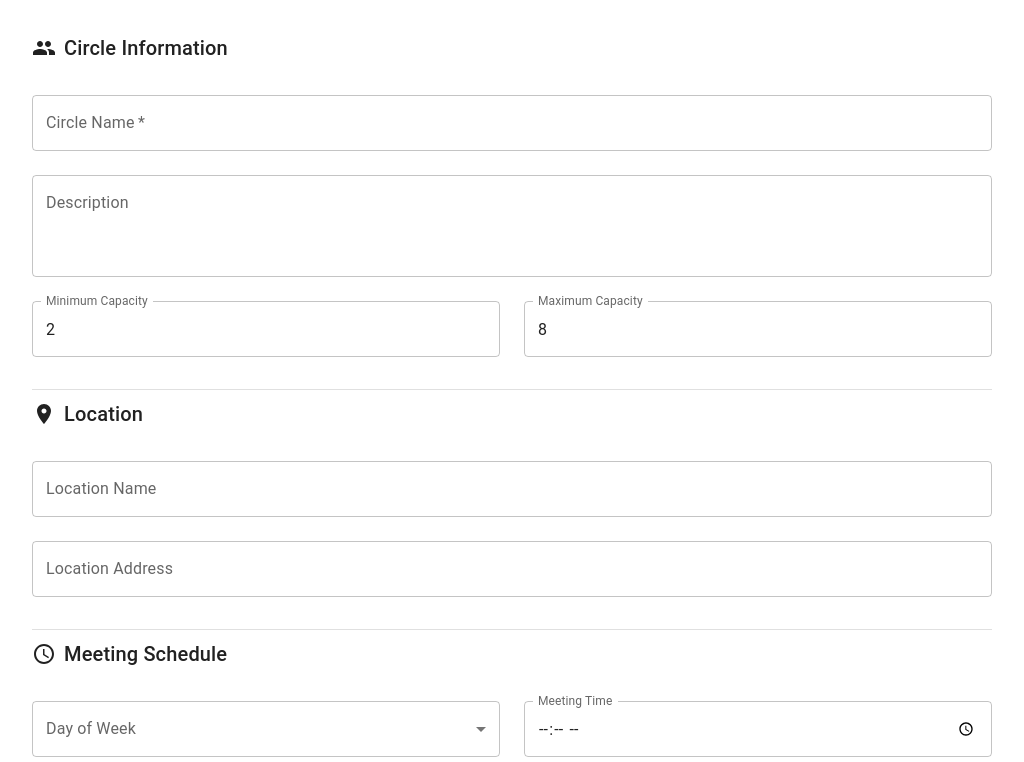
Scenario: CircleForm › Create Mode › should validate capacity constraints
The width and height of the screenshot is (1024, 762).
Step 1. Type "Test Circle" into the field labelled "Circle Name *" → (512, 123), box 32,95 -> 992,151
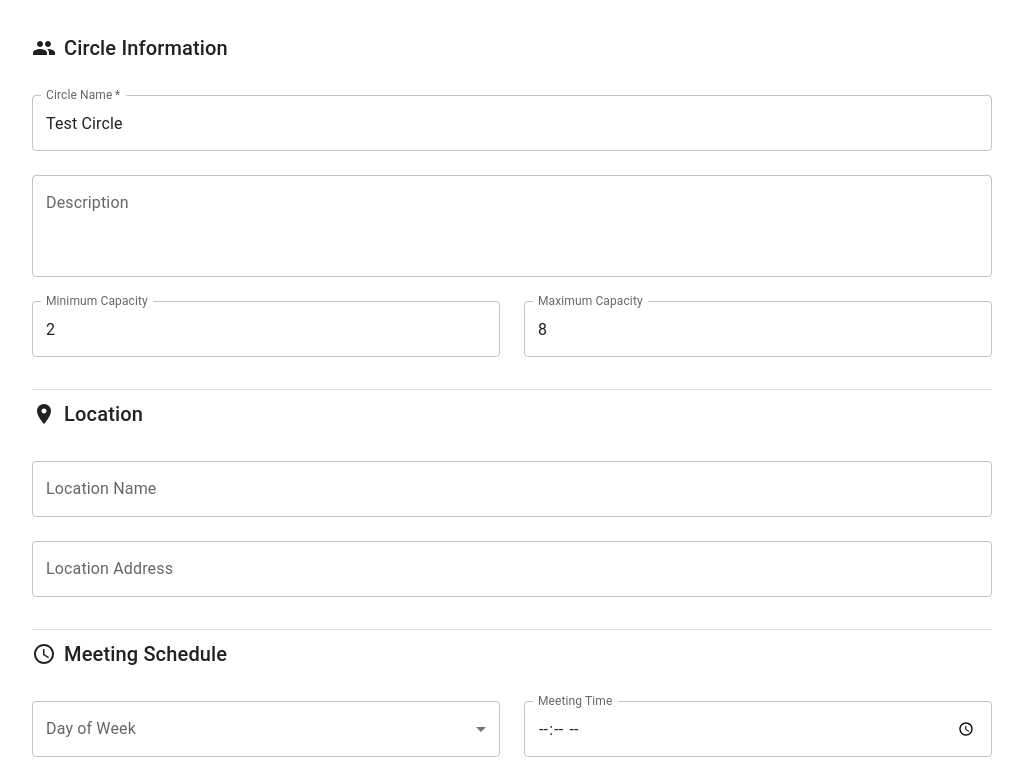
Step 2. Replace the text in the number field labelled "Minimum Capacity" with "8" → (266, 329), box 32,301 -> 500,357
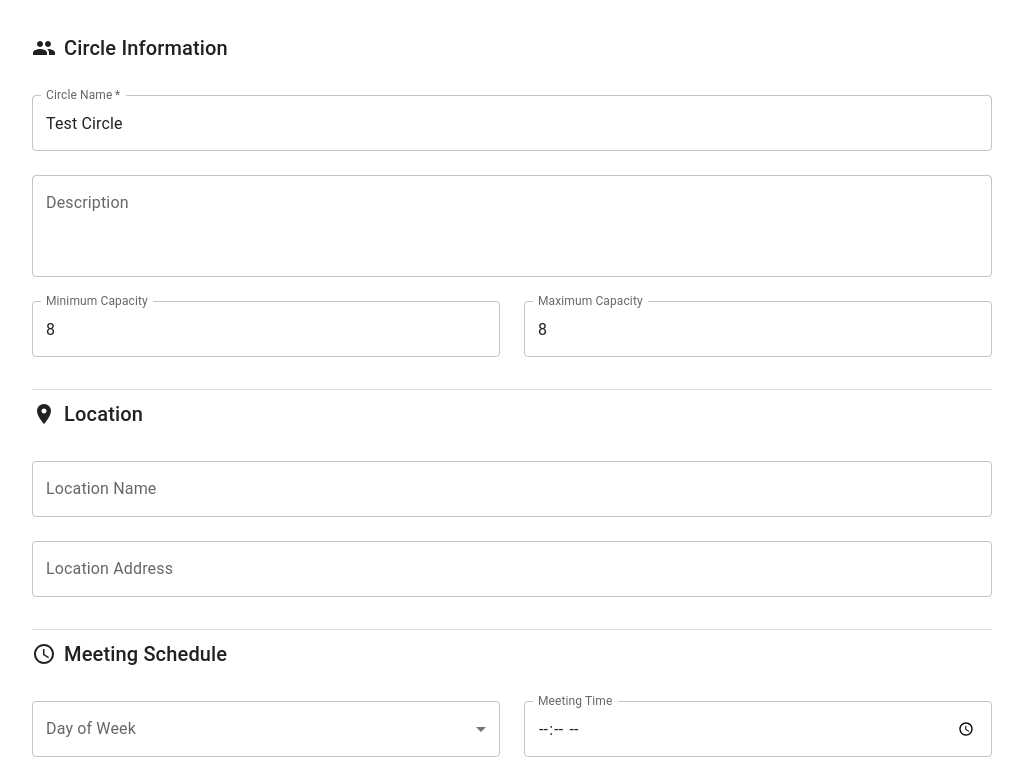
Step 3. Replace the text in the number field labelled "Maximum Capacity" with "6" → (758, 329), box 524,301 -> 992,357
(page scrolled)
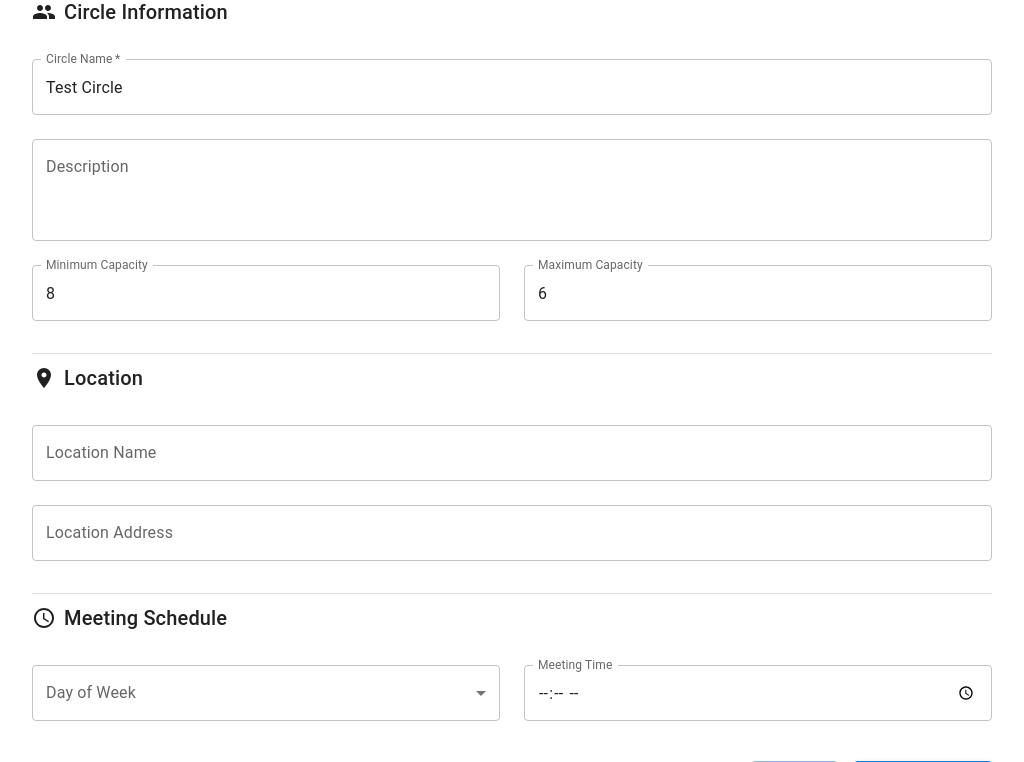
Step 4. Submit the text "create circle"
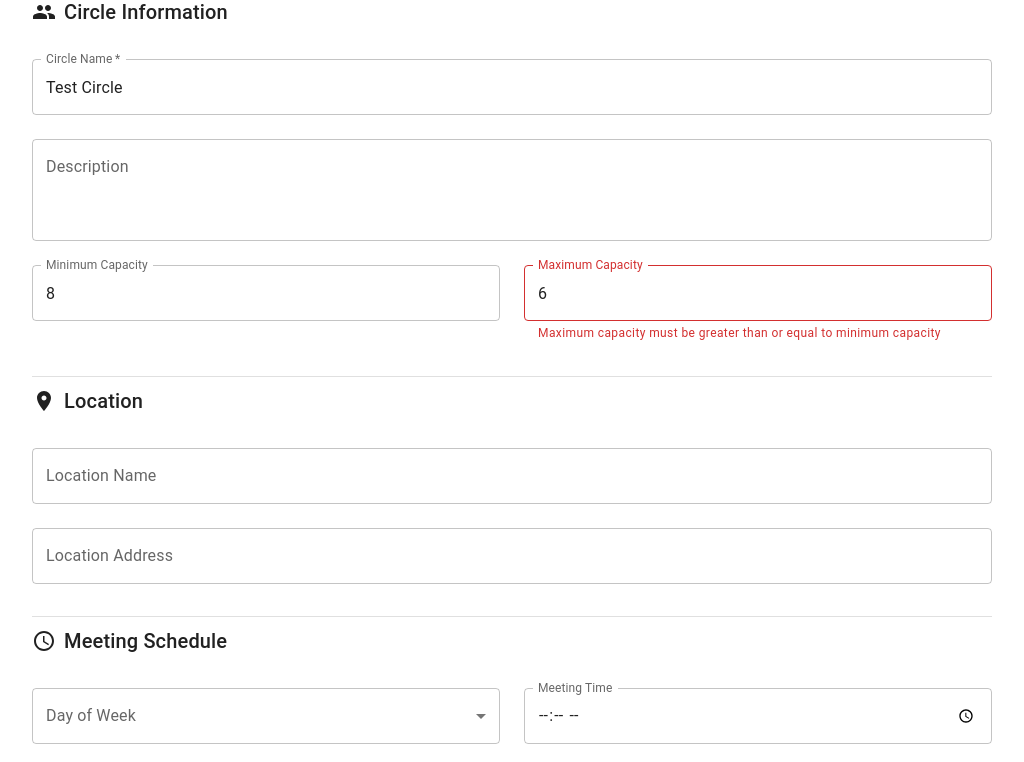
expect the text "Maximum capacity must be greater than or equal to minimum capacity" is shown: met, box 538,324 -> 978,344
